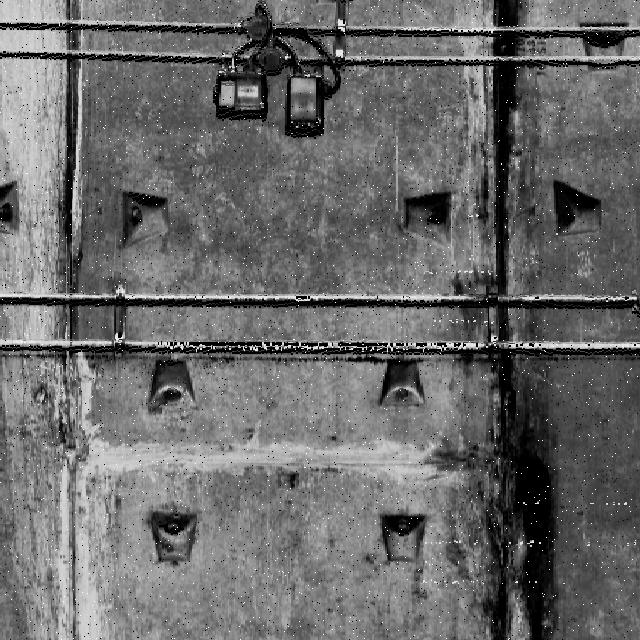leakage: (453, 6, 576, 640)
